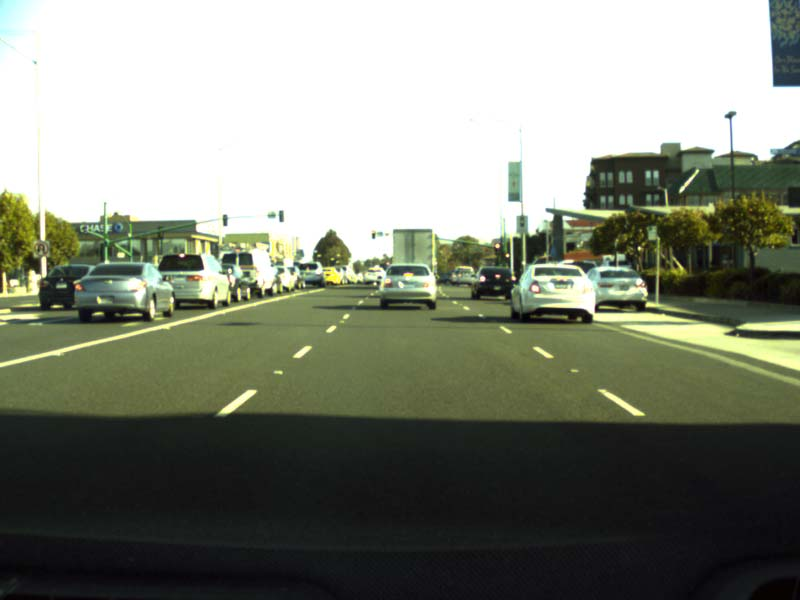Red: (494, 241, 501, 254), (371, 230, 376, 240), (505, 252, 509, 258)
